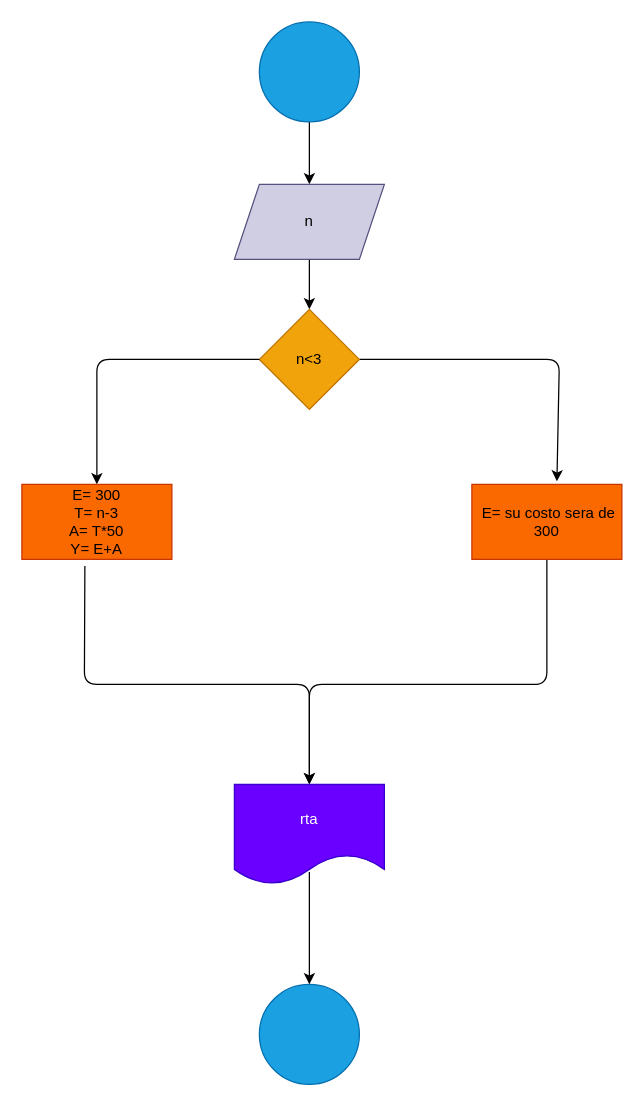
This 644x1106 diagram has some shape labels left out. The box of each missing label's shape, as (x1, y1, x2, y2) in pixels:
fin: (258, 983, 359, 1084)
Inicio: (258, 21, 359, 122)
